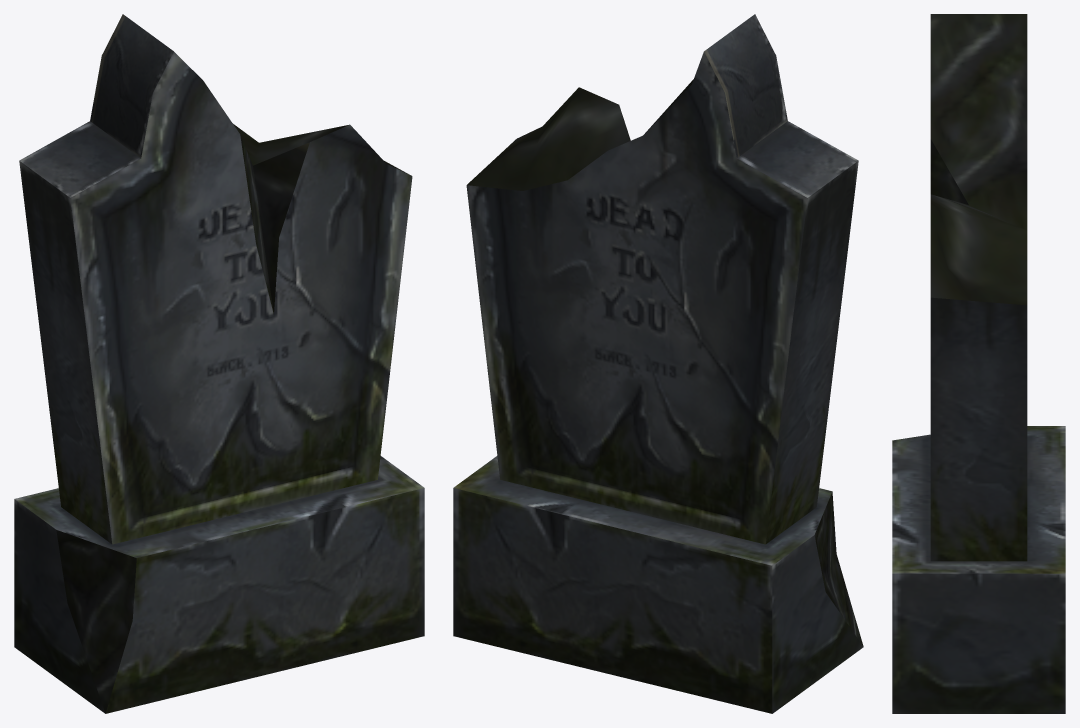
File: C_mubei006.fbx
3 renders of one model, left to right at view 1: azimuth 30°, elevation 25°; view 2: azimuth 150°, elevation 25°; view 3: azimuth 270°, elevation 25°, orthographic. The views are drawn at different scales.
Visible parts, largest first — view 1: C_mubei006; view 2: C_mubei006; view 3: C_mubei006.
Boxes of the visible parts, <box> form: C_mubei006: <box>14,14,424,713</box>; C_mubei006: <box>453,14,863,713</box>; C_mubei006: <box>892,14,1065,713</box>.
Bounding box in the file's own units: 90.11 × 158 × 41.66.
